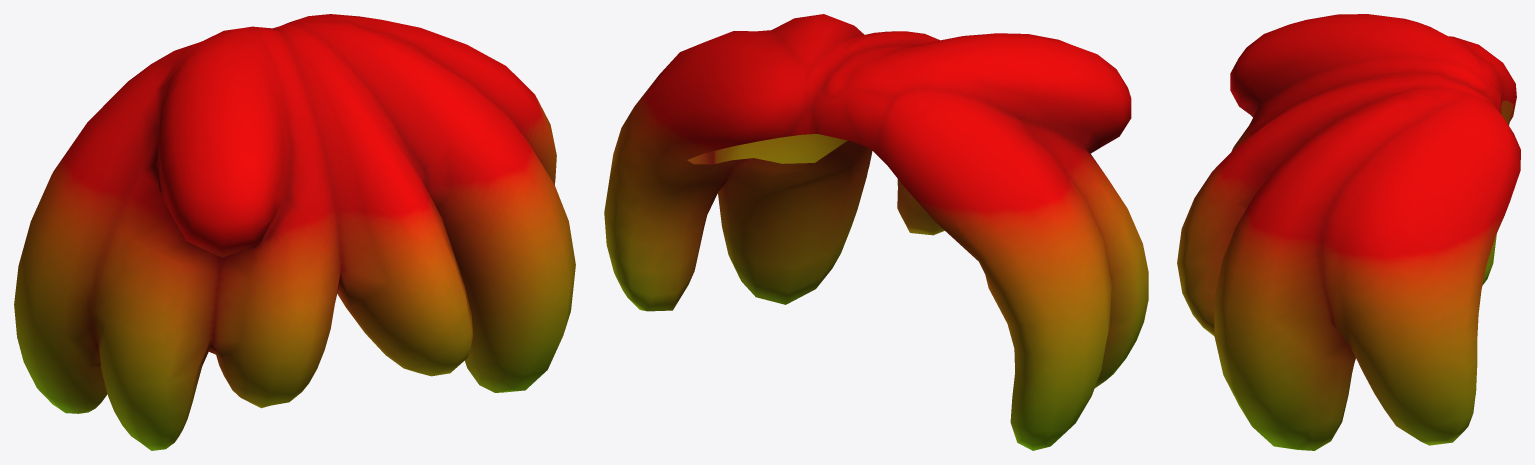
The model's file is HairFront_Puffy.obj.
The picture shows the model from 3 angles, left to right: view 1: azimuth 30°, elevation 25°; view 2: azimuth 150°, elevation 25°; view 3: azimuth 270°, elevation 25°; orthographic projection. The views are drawn at different scales.
Visible parts, largest first — view 1: HairFront_Puffy_0; view 2: HairFront_Puffy_0; view 3: HairFront_Puffy_0.
Part boxes in pixels (box(x1,y1,x2,y2)): HairFront_Puffy_0: box(14, 14, 575, 450); HairFront_Puffy_0: box(604, 14, 1148, 450); HairFront_Puffy_0: box(1177, 14, 1520, 450).
Bounding box in the file's own units: 0.2055 × 0.1378 × 0.1326.
Materials: 1 (1 with a texture image).
